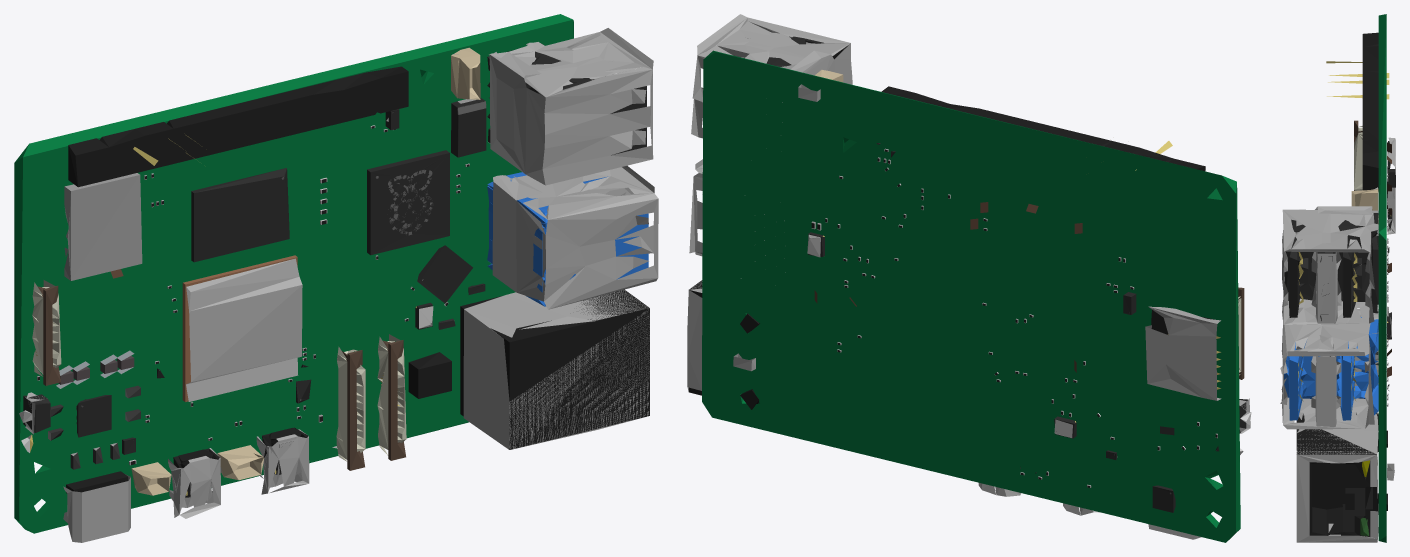
The picture shows the model from 3 angles, left to right: view 1: azimuth 30°, elevation 25°; view 2: azimuth 150°, elevation 25°; view 3: azimuth 270°, elevation 25°; orthographic projection. The views are drawn at different scales.
Parts seen in each view (by area): view 1: geometry_0; view 2: geometry_0; view 3: geometry_0.
Part boxes in pixels (x1,y1,x2,y2): geometry_0: [14, 14, 658, 542]; geometry_0: [687, 14, 1251, 542]; geometry_0: [1280, 14, 1395, 542].
Bounding box in the file's own units: 2 × 1.3 × 0.4193.
